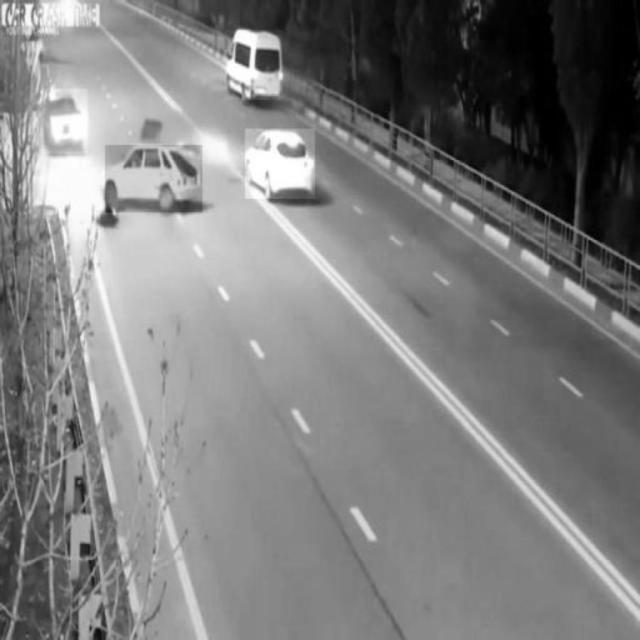vehicle: (105, 144, 203, 212), (245, 129, 315, 199), (226, 30, 283, 100), (43, 89, 88, 153)
